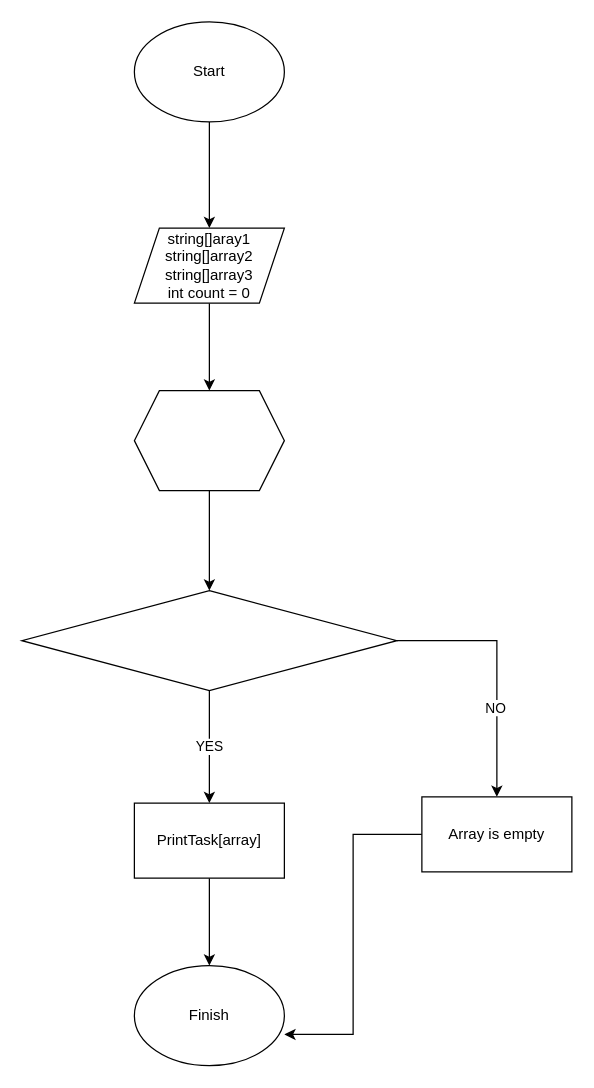
This 594x1088 diagram has some shape labels left out. Here are the shapes that lost their labels. From the top down, the box of each, then its label:
(133, 389, 284, 491): int max_word_lenght =3
(21, 589, 397, 691): String lenght < = 3
